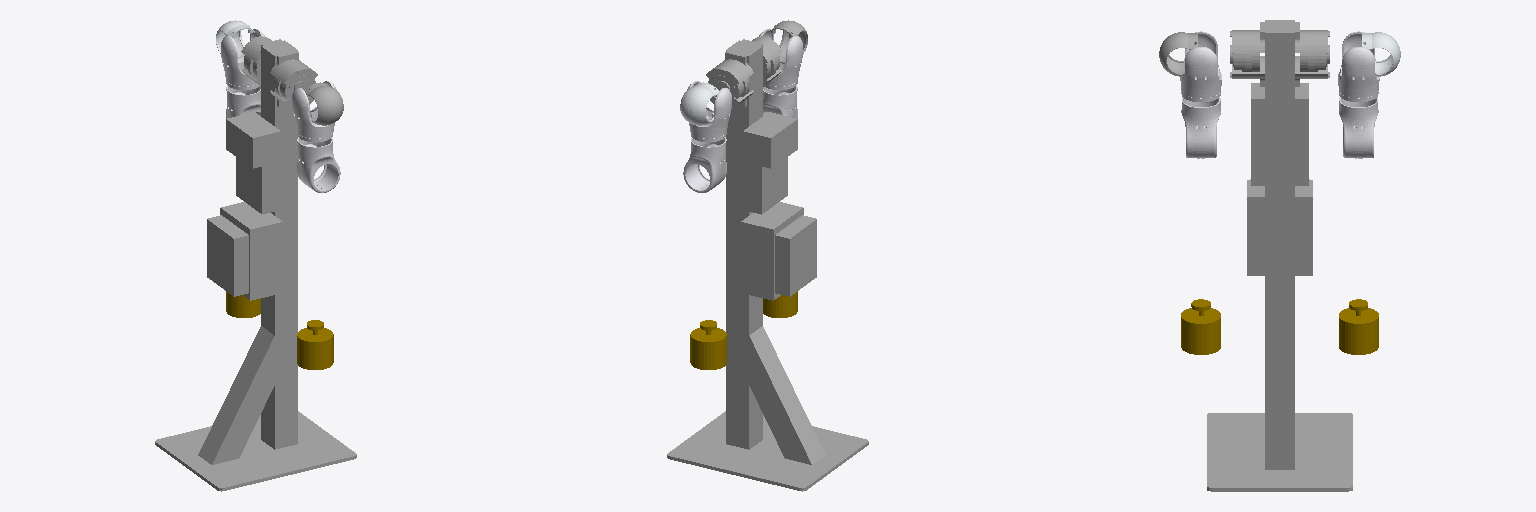
The robot description file, URDF, robot "bimanual_A7black":
<?xml version='1.0' encoding='utf-8'?>
<robot name="bimanual_A7black">
  <link name="world" />
  <joint name="world_to_base" type="fixed">
    <parent link="world" />
    <child link="base_link" />
    <origin xyz="0 0 0" rpy="0 0 0" />
  </joint>
  <link name="base_link">
    <inertial>
      <origin xyz="-0.0408768754850503 -1.25954491839278E-16 0.456680749882226" rpy="0 0 0" />
      <mass value="12.5314307448736" />
      <inertia ixx="0.294142132352272" ixy="2.72189967590133E-19" ixz="-0.00164264470583179" iyy="0.301153645796892" iyz="-5.17370179816571E-19" izz="0.0525499015836404" />
    </inertial>
    <visual>
      <origin xyz="0 0 0" rpy="0 0 0" />
      <geometry>
        <mesh filename="meshes/base_link.STL" />
      </geometry>
      <material name="">
        <color rgba="0.698039215686274 0.698039215686274 0.698039215686274 1" />
      </material>
    </visual>
    <collision>
      <origin xyz="0 0 0" rpy="0 0 0" />
      <geometry>
        <mesh filename="meshes/base_link.STL" />
      </geometry>
    </collision>
  </link>
  <link name="right_link1">
    <inertial>
      <origin xyz="0.000169600583441107 0.00536118933012919 -1.08801856413265E-14" rpy="0 0 0" />
      <mass value="1.0729267006296" />
      <inertia ixx="0.000915509207829356" ixy="3.60481063056995E-05" ixz="1.01683859346984E-19" iyy="0.000626851067939033" iyz="-4.8860358975149E-20" izz="0.000739716956480902" />
    </inertial>
    <visual>
      <origin xyz="0 0 0" rpy="0 0 0" />
      <geometry>
        <mesh filename="meshes/right_shoulder_pitch_link.STL" />
      </geometry>
      <material name="">
        <color rgba="0.698039215686274 0.698039215686274 0.698039215686274 1" />
      </material>
    </visual>
    <collision>
      <origin xyz="0 0 0" rpy="0 0 0" />
      <geometry>
        <mesh filename="meshes/right_shoulder_pitch_link.STL" />
      </geometry>
    </collision>
  </link>
  <joint name="right_joint1" type="revolute">
    <origin xyz="0 -0.155500000000001 0.89" rpy="0 0 0" />
    <parent link="base_link" />
    <child link="right_link1" />
    <axis xyz="0 -1 0" />
    <limit lower="-1.6" upper="3.2" effort="80" velocity="6.28" />
    <dynamics damping="0.1" friction="1" />
    <safety_controller soft_upper_limit="3.2" soft_lower_limit="-1.6" k_position="1" k_velocity="1" />
  </joint>
  <link name="right_link2">
    <inertial>
      <origin xyz="0.000146672225955762 -3.69149155687865E-15 -0.0820064143442908" rpy="0 0 0" />
      <mass value="0.630665183818432" />
      <inertia ixx="0.000507247081072811" ixy="6.81701231036111E-21" ixz="-7.37276910667815E-07" iyy="0.000491222617596428" iyz="-1.12134468753184E-19" izz="0.000270335000834568" />
    </inertial>
    <visual>
      <origin xyz="0 0 0" rpy="0 0 0" />
      <geometry>
        <mesh filename="meshes/right_shoulder_roll_link.STL" />
      </geometry>
      <material name="">
        <color rgba="0.890196078431372 0.890196078431372 0.913725490196078 1" />
      </material>
    </visual>
    <collision>
      <origin xyz="0 0 0" rpy="0 0 0" />
      <geometry>
        <mesh filename="meshes/right_shoulder_roll_link.STL" />
      </geometry>
    </collision>
  </link>
  <joint name="right_joint2" type="revolute">
    <origin xyz="0 0 0" rpy="0 0 0" />
    <parent link="right_link1" />
    <child link="right_link2" />
    <axis xyz="1 0 0" />
    <limit lower="-3.2" upper="0.1" effort="80" velocity="6.28" />
    <dynamics damping="0.1" friction="1" />
    <safety_controller soft_upper_limit="0.1" soft_lower_limit="-3.2" k_position="1" k_velocity="1" />
  </joint>
  <link name="right_link3">
    <inertial>
      <origin xyz="0.00679261640238529 -0.00011725342767227 -0.129977555870598" rpy="0 0 0" />
      <mass value="0.614846988008382" />
      <inertia ixx="0.000494815083065846" ixy="7.45737293010487E-08" ixz="5.89417554143706E-06" iyy="0.00046676548644876" iyz="-1.17507913087298E-07" izz="0.000262360774865025" />
    </inertial>
    <visual>
      <origin xyz="0 0 0" rpy="0 0 0" />
      <geometry>
        <mesh filename="meshes/right_shoulder_yaw_link.STL" />
      </geometry>
      <material name="">
        <color rgba="0.890196078431372 0.890196078431372 0.913725490196078 1" />
      </material>
    </visual>
    <collision>
      <origin xyz="0 0 0" rpy="0 0 0" />
      <geometry>
        <mesh filename="meshes/right_shoulder_yaw_link.STL" />
      </geometry>
    </collision>
  </link>
  <joint name="right_joint3" type="revolute">
    <origin xyz="0 0 -0.120000000000008" rpy="0 0 0" />
    <parent link="right_link2" />
    <child link="right_link3" />
    <axis xyz="0 0 -1" />
    <limit lower="-2.355" upper="2.355" effort="36" velocity="6.28" />
    <dynamics damping="0.1" friction="1" />
    <safety_controller soft_upper_limit="2.355" soft_lower_limit="-2.355" k_position="1" k_velocity="1" />
  </joint>
  <link name="right_link4">
    <inertial>
      <origin xyz="-0.00900631101525574 -0.000240345521024143 -0.0743299812144361" rpy="0 0 0" />
      <mass value="0.589538608702173" />
      <inertia ixx="0.000387615745120338" ixy="-1.5118303743599E-08" ixz="-1.28925880934809E-05" iyy="0.000390308114953514" iyz="-9.51425709932361E-08" izz="0.000239628603656533" />
    </inertial>
    <visual>
      <origin xyz="0 0 0" rpy="0 0 0" />
      <geometry>
        <mesh filename="meshes/right_elbow_pitch_link.STL" />
      </geometry>
      <material name="">
        <color rgba="0.890196078431372 0.890196078431372 0.913725490196078 1" />
      </material>
    </visual>
    <collision>
      <origin xyz="0 0 0" rpy="0 0 0" />
      <geometry>
        <mesh filename="meshes/right_elbow_pitch_link.STL" />
      </geometry>
    </collision>
  </link>
  <joint name="right_joint4" type="revolute">
    <origin xyz="0.00949999999999593 0 -0.150000000000018" rpy="0 0 0" />
    <parent link="right_link3" />
    <child link="right_link4" />
    <axis xyz="0 -1 0" />
    <limit lower="-0.1" upper="2.355" effort="36" velocity="6.28" />
    <dynamics damping="0.1" friction="1" />
    <safety_controller soft_upper_limit="2.355" soft_lower_limit="-0.1" k_position="1" k_velocity="1" />
  </joint>
  <link name="right_link5">
    <inertial>
      <origin xyz="-0.00628122336092777 -8.60558242637977E-06 -0.0552552877997038" rpy="0 0 0" />
      <mass value="0.491078451936018" />
      <inertia ixx="0.000237761162916226" ixy="-3.08197491694291E-08" ixz="1.64282072656749E-05" iyy="0.000260670012049319" iyz="1.50060875417478E-07" izz="0.000229172715705186" />
    </inertial>
    <visual>
      <origin xyz="0 0 0" rpy="0 0 0" />
      <geometry>
        <mesh filename="meshes/right_wrist_yaw_link.STL" />
      </geometry>
      <material name="">
        <color rgba="0.890196078431372 0.890196078431372 0.913725490196078 1" />
      </material>
    </visual>
    <collision>
      <origin xyz="0 0 0" rpy="0 0 0" />
      <geometry>
        <mesh filename="meshes/right_wrist_yaw_link.STL" />
      </geometry>
    </collision>
  </link>
  <joint name="right_joint5" type="revolute">
    <origin xyz="-0.00950000000000241 0 -0.110000000000001" rpy="0 0 0" />
    <parent link="right_link4" />
    <child link="right_link5" />
    <axis xyz="3.08428809747545E-05 0 -0.999999999524358" />
    <limit lower="-2.355" upper="2.355" effort="36" velocity="6.28" />
    <dynamics damping="0.1" friction="1" />
    <safety_controller soft_upper_limit="2.355" soft_lower_limit="-2.355" k_position="1" k_velocity="1" />
  </joint>
  <link name="right_link6">
    <inertial>
      <origin xyz="0.00459314320083516 0.00676484942055011 -0.0587026522786601" rpy="0 0 0" />
      <mass value="0.489682386987798" />
      <inertia ixx="0.000286563654952449" ixy="-2.94113165252696E-06" ixz="-9.40007336764899E-06" iyy="0.000244899748701166" iyz="-6.07202990598762E-06" izz="0.000204397820215415" />
    </inertial>
    <visual>
      <origin xyz="0 0 0" rpy="0 0 0" />
      <geometry>
        <mesh filename="meshes/right_wrist_roll_link.STL" />
      </geometry>
      <material name="">
        <color rgba="0.898039215686275 0.917647058823529 0.929411764705882 1" />
      </material>
    </visual>
    <collision>
      <origin xyz="0 0 0" rpy="0 0 0" />
      <geometry>
        <mesh filename="meshes/right_wrist_roll_link.STL" />
      </geometry>
    </collision>
  </link>
  <joint name="right_joint6" type="revolute">
    <origin xyz="0 0 -0.0600009560151546" rpy="0 -3.08428809806664E-05 0" />
    <parent link="right_link5" />
    <child link="right_link6" />
    <axis xyz="1 0 0" />
    <limit lower="-1.6" upper="1.6" effort="36" velocity="6.28" />
    <dynamics damping="0.1" friction="1" />
    <safety_controller soft_upper_limit="1.6" soft_lower_limit="-1.6" k_position="1" k_velocity="1" />
  </joint>
  <link name="right_link7">
    <inertial>
      <origin xyz="1.05277908613033E-09 -0.0182413380526012 -0.0246287972932213" rpy="0 0 0" />
      <mass value="0.0524874622297217" />
      <inertia ixx="2.5721308463129E-05" ixy="-1.86643831380831E-13" ixz="1.12051526375652E-12" iyy="2.3701054841223E-05" iyz="5.32357391147241E-06" izz="1.55160781950627E-05" />
    </inertial>
    <visual>
      <origin xyz="0 0 0" rpy="0 0 0" />
      <geometry>
        <mesh filename="meshes/right_wrist_pitch_link.STL" />
      </geometry>
      <material name="">
        <color rgba="0.890196078431372 0.890196078431372 0.913725490196078 1" />
      </material>
    </visual>
    <collision>
      <origin xyz="0 0 0" rpy="0 0 0" />
      <geometry>
        <mesh filename="meshes/right_wrist_pitch_link.STL" />
      </geometry>
    </collision>
  </link>
  <joint name="right_joint7" type="revolute">
    <origin xyz="0 0 -0.0639990438402486" rpy="0 3.08428809844464E-05 0" />
    <parent link="right_link6" />
    <child link="right_link7" />
    <axis xyz="0 -1 0" />
    <limit lower="-1.6" upper="1.6" effort="36" velocity="6.28" />
    <dynamics damping="0.1" friction="1" />
    <safety_controller soft_upper_limit="1.6" soft_lower_limit="-1.6" k_position="1" k_velocity="1" />
  </joint>
  <link name="right_link8">
    <inertial>
      <origin xyz="0 0 -0.00034815" rpy="0 0 0" />
      <mass value="2.9965" />
      <inertia ixx="0.0025521" ixy="7.7317E-20" ixz="6.6841E-20" iyy="0.0025521" iyz="5.9006E-20" izz="0.0023391" />
    </inertial>
    <visual>
      <origin xyz="0 0 0" rpy="0 0 0" />
      <geometry>
        <mesh filename="meshes/right_end_tool_link.STL" />
      </geometry>
      <material name="">
        <color rgba="0.64706 0.51765 0 1" />
      </material>
    </visual>
    <collision>
      <origin xyz="0 0 0" rpy="0 0 0" />
      <geometry>
        <mesh filename="meshes/right_end_tool_link.STL" />
      </geometry>
    </collision>
  </link>
  <joint name="right_joint8" type="fixed">
    <origin xyz="0 0 -0.096" rpy="0 0 0" />
    <parent link="right_link7" />
    <child link="right_link8" />
    <axis xyz="0 0 0" />
  </joint>
  <link name="left_link1">
    <inertial>
      <origin xyz="0.000169600583440919 -0.00536118933013802 -2.22044604925031E-16" rpy="0 0 0" />
      <mass value="1.0729267006296" />
      <inertia ixx="0.000915509207829356" ixy="-3.60481063056997E-05" ixz="-2.17565542723462E-20" iyy="0.000626851067939032" iyz="-2.92681248079935E-20" izz="0.000739716956480902" />
    </inertial>
    <visual>
      <origin xyz="0 0 0" rpy="0 0 0" />
      <geometry>
        <mesh filename="meshes/left_shoulder_pitch_link.STL" />
      </geometry>
      <material name="">
        <color rgba="0.898039215686275 0.917647058823529 0.929411764705882 1" />
      </material>
    </visual>
    <collision>
      <origin xyz="0 0 0" rpy="0 0 0" />
      <geometry>
        <mesh filename="meshes/left_shoulder_pitch_link.STL" />
      </geometry>
    </collision>
  </link>
  <joint name="left_joint1" type="revolute">
    <origin xyz="0 0.1555 0.89" rpy="0 0 0" />
    <parent link="base_link" />
    <child link="left_link1" />
    <axis xyz="0 1 0" />
    <limit lower="-3.2" upper="1.6" effort="80" velocity="6.28" />
    <dynamics damping="0.1" friction="1" />
    <safety_controller soft_upper_limit="1.6" soft_lower_limit="-3.2" k_position="1" k_velocity="1" />
  </joint>
  <link name="left_link2">
    <inertial>
      <origin xyz="0.000146672225953902 4.21884749357559E-15 -0.0820064143442899" rpy="0 0 0" />
      <mass value="0.630665183818432" />
      <inertia ixx="0.000507247081072811" ixy="-3.0500109704178E-20" ixz="-7.37276910666266E-07" iyy="0.000491222617596428" iyz="1.81194253969105E-19" izz="0.000270335000834568" />
    </inertial>
    <visual>
      <origin xyz="0 0 0" rpy="0 0 0" />
      <geometry>
        <mesh filename="meshes/left_shoulder_roll_link.STL" />
      </geometry>
      <material name="">
        <color rgba="0.890196078431372 0.890196078431372 0.913725490196078 1" />
      </material>
    </visual>
    <collision>
      <origin xyz="0 0 0" rpy="0 0 0" />
      <geometry>
        <mesh filename="meshes/left_shoulder_roll_link.STL" />
      </geometry>
    </collision>
  </link>
  <joint name="left_joint2" type="revolute">
    <origin xyz="0 0 0" rpy="0 0 0" />
    <parent link="left_link1" />
    <child link="left_link2" />
    <axis xyz="1 0 0" />
    <limit lower="-0.1" upper="3.2" effort="80" velocity="6.28" />
    <dynamics damping="0.1" friction="1" />
    <safety_controller soft_upper_limit="3.2" soft_lower_limit="-0.1" k_position="1" k_velocity="1" />
  </joint>
  <link name="left_link3">
    <inertial>
      <origin xyz="0.00679261640238962 -0.000117253427678654 -0.129977555870601" rpy="0 0 0" />
      <mass value="0.614846988008381" />
      <inertia ixx="0.000494815083065846" ixy="7.4573729301019E-08" ixz="5.89417554143715E-06" iyy="0.000466765486448761" iyz="-1.1750791308745E-07" izz="0.000262360774865025" />
    </inertial>
    <visual>
      <origin xyz="0 0 0" rpy="0 0 0" />
      <geometry>
        <mesh filename="meshes/left_shoulder_yaw_link.STL" />
      </geometry>
      <material name="">
        <color rgba="0.890196078431372 0.890196078431372 0.913725490196078 1" />
      </material>
    </visual>
    <collision>
      <origin xyz="0 0 0" rpy="0 0 0" />
      <geometry>
        <mesh filename="meshes/left_shoulder_yaw_link.STL" />
      </geometry>
    </collision>
  </link>
  <joint name="left_joint3" type="revolute">
    <origin xyz="0 0 -0.120000000000001" rpy="0 0 0" />
    <parent link="left_link2" />
    <child link="left_link3" />
    <axis xyz="0 0 -1" />
    <limit lower="-2.355" upper="2.355" effort="36" velocity="6.28" />
    <dynamics damping="0.1" friction="1" />
    <safety_controller soft_upper_limit="2.355" soft_lower_limit="-2.355" k_position="1" k_velocity="1" />
  </joint>
  <link name="left_link4">
    <inertial>
      <origin xyz="-0.00900631101525189 -0.000240345521089952 -0.074329981214461" rpy="0 0 0" />
      <mass value="0.589538608702172" />
      <inertia ixx="0.000387615745120337" ixy="-1.51183037436887E-08" ixz="-1.28925880934807E-05" iyy="0.000390308114953513" iyz="-9.51425709934849E-08" izz="0.000239628603656532" />
    </inertial>
    <visual>
      <origin xyz="0 0 0" rpy="0 0 0" />
      <geometry>
        <mesh filename="meshes/left_elbow_pitch_link.STL" />
      </geometry>
      <material name="">
        <color rgba="0.890196078431372 0.890196078431372 0.913725490196078 1" />
      </material>
    </visual>
    <collision>
      <origin xyz="0 0 0" rpy="0 0 0" />
      <geometry>
        <mesh filename="meshes/left_elbow_pitch_link.STL" />
      </geometry>
    </collision>
  </link>
  <joint name="left_joint4" type="revolute">
    <origin xyz="0.00950000000000007 0 -0.149999999999998" rpy="0 0 0" />
    <parent link="left_link3" />
    <child link="left_link4" />
    <axis xyz="0 -1 0" />
    <limit lower="-0.1" upper="2.355" effort="36" velocity="6.28" />
    <dynamics damping="0.1" friction="1" />
    <safety_controller soft_upper_limit="2.355" soft_lower_limit="-0.1" k_position="1" k_velocity="1" />
  </joint>
  <link name="left_link5">
    <inertial>
      <origin xyz="-0.00628122336092885 -8.60558242243847E-06 -0.0552552877997314" rpy="0 0 0" />
      <mass value="0.491078451936018" />
      <inertia ixx="0.000237761162916226" ixy="-3.08197491694139E-08" ixz="1.64282072656747E-05" iyy="0.000260670012049319" iyz="1.50060875417553E-07" izz="0.000229172715705186" />
    </inertial>
    <visual>
      <origin xyz="0 0 0" rpy="0 0 0" />
      <geometry>
        <mesh filename="meshes/left_wrist_yaw_link.STL" />
      </geometry>
      <material name="">
        <color rgba="0.890196078431372 0.890196078431372 0.913725490196078 1" />
      </material>
    </visual>
    <collision>
      <origin xyz="0 0 0" rpy="0 0 0" />
      <geometry>
        <mesh filename="meshes/left_wrist_yaw_link.STL" />
      </geometry>
    </collision>
  </link>
  <joint name="left_joint5" type="revolute">
    <origin xyz="-0.00950000000000013 0 -0.11" rpy="0 0 0" />
    <parent link="left_link4" />
    <child link="left_link5" />
    <axis xyz="0 0 -1" />
    <limit lower="-2.355" upper="2.355" effort="36" velocity="6.28" />
    <safety_controller soft_upper_limit="2" soft_lower_limit="-2" k_position="1" k_velocity="1" />
  </joint>
  <link name="left_link6">
    <inertial>
      <origin xyz="0.00464664842259001 -0.00674986659518315 -0.0585595656682709" rpy="0 0 0" />
      <mass value="0.490853753913635" />
      <inertia ixx="0.000288485909304209" ixy="2.92801694284259E-06" ixz="-9.39332019453565E-06" iyy="0.000246628799829488" iyz="6.16052840176192E-06" izz="0.000204547517314718" />
    </inertial>
    <visual>
      <origin xyz="0 0 0" rpy="0 0 0" />
      <geometry>
        <mesh filename="meshes/left_wrist_roll_link.STL" />
      </geometry>
      <material name="">
        <color rgba="0.890196078431372 0.890196078431372 0.913725490196078 1" />
      </material>
    </visual>
    <collision>
      <origin xyz="0 0 0" rpy="0 0 0" />
      <geometry>
        <mesh filename="meshes/left_wrist_roll_link.STL" />
      </geometry>
    </collision>
  </link>
  <joint name="left_joint6" type="revolute">
    <origin xyz="0 0 -0.0600000000000002" rpy="0 0 0" />
    <parent link="left_link5" />
    <child link="left_link6" />
    <axis xyz="1 0 0" />
    <limit lower="-1.6" upper="1.6" effort="36" velocity="6.28" />
    <dynamics damping="0.1" friction="1" />
    <safety_controller soft_upper_limit="1.6" soft_lower_limit="-1.6" k_position="1" k_velocity="1" />
  </joint>
  <link name="left_link7">
    <inertial>
      <origin xyz="-1.05277497136624E-09 0.0182413380525975 -0.0246287972932445" rpy="0 0 0" />
      <mass value="0.0524874622297217" />
      <inertia ixx="2.57213084631289E-05" ixy="-1.86643835633321E-13" ixz="-1.12051527940655E-12" iyy="2.3701054841223E-05" iyz="-5.32357391147238E-06" izz="1.55160781950626E-05" />
    </inertial>
    <visual>
      <origin xyz="0 0 0" rpy="0 0 0" />
      <geometry>
        <mesh filename="meshes/left_wrist_pitch_link.STL" />
      </geometry>
      <material name="">
        <color rgba="0.890196078431372 0.890196078431372 0.913725490196078 1" />
      </material>
    </visual>
    <collision>
      <origin xyz="0 0 0" rpy="0 0 0" />
      <geometry>
        <mesh filename="meshes/left_wrist_pitch_link.STL" />
      </geometry>
    </collision>
  </link>
  <joint name="left_joint7" type="revolute">
    <origin xyz="0 0 -0.0640000000000028" rpy="0 0 0" />
    <parent link="left_link6" />
    <child link="left_link7" />
    <axis xyz="0 1 0" />
    <limit lower="-1.6" upper="1.6" effort="36" velocity="6.28" />
    <dynamics damping="0.1" friction="1" />
    <safety_controller soft_upper_limit="1.6" soft_lower_limit="-1.6" k_position="1" k_velocity="1" />
  </joint>
  <link name="left_link8">
    <inertial>
      <origin xyz="0 -2.7756E-17 -0.00034815" rpy="0 0 0" />
      <mass value="2.9965" />
      <inertia ixx="0.0025521" ixy="-4.9584E-20" ixz="-5.7557E-21" iyy="0.0025521" iyz="-1.3393E-19" izz="0.0023391" />
    </inertial>
    <visual>
      <origin xyz="0 0 0" rpy="0 0 0" />
      <geometry>
        <mesh filename="meshes/left_end_tool_link.STL" />
      </geometry>
      <material name="">
        <color rgba="0.64706 0.51765 0 1" />
      </material>
    </visual>
    <collision>
      <origin xyz="0 0 0" rpy="0 0 0" />
      <geometry>
        <mesh filename="meshes/left_end_tool_link.STL" />
      </geometry>
    </collision>
  </link>
  <joint name="left_joint8" type="fixed">
    <origin xyz="0 0 -0.096" rpy="0 0 0" />
    <parent link="left_link7" />
    <child link="left_link8" />
    <axis xyz="0 0 0" />
  </joint>
</robot>

--- Render facts (derived) ---
3 views of the same robot in one strip: view 1: azimuth 30°, elevation 25°; view 2: azimuth 150°, elevation 25°; view 3: azimuth 270°, elevation 25° (orthographic).
Robot: bimanual_A7black — 18 links, 17 joints (14 revolute, 3 fixed); root link world; default pose: every joint at zero.
Visible links, largest first — view 1: base_link, right_link3, right_link8, right_link2, right_link1, left_link2, left_link3, left_link8, left_link1; view 2: base_link, left_link3, left_link8, left_link2, left_link1, right_link2, right_link3, right_link8, right_link1; view 3: base_link, left_link2, right_link2, right_link3, left_link3, right_link8, left_link8, right_link1, left_link1.
Boxes of the visible links, x1,y1,x2,y2 form: base_link: (155,36,356,491); right_link3: (297,137,340,192); right_link8: (297,320,333,369); right_link2: (292,81,336,141); right_link1: (305,82,343,125); left_link2: (221,29,264,89); left_link3: (226,85,260,118); left_link8: (226,291,260,317); left_link1: (216,20,254,63); base_link: (667,36,868,491); left_link3: (683,137,726,192); left_link8: (690,320,726,369); left_link2: (687,81,731,141); left_link1: (680,82,718,125); right_link2: (759,29,802,89); right_link3: (763,85,797,118); right_link8: (763,291,797,317); right_link1: (769,20,807,63); base_link: (1207,20,1352,491); left_link2: (1338,31,1379,101); right_link2: (1180,31,1221,101); right_link3: (1181,97,1220,158); left_link3: (1339,97,1378,158); right_link8: (1181,299,1220,354); left_link8: (1339,299,1378,354); right_link1: (1159,32,1197,76); left_link1: (1362,32,1400,76).
Size in the robot's own frame: 0.35 by 0.4768 by 0.958 metres.
Meshes: 17 distinct files referenced, 9 mesh visuals loaded (9 binary STL); not drawn: 8 (reference not matched to a file when rendering).
